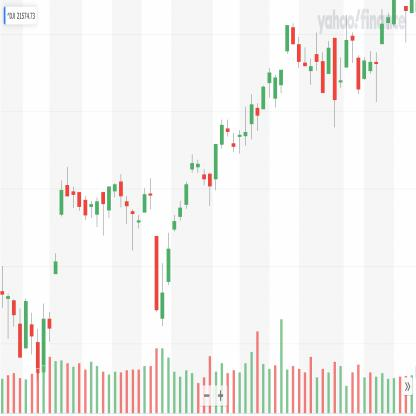Bearish Engulfing: (326, 33, 338, 131)
